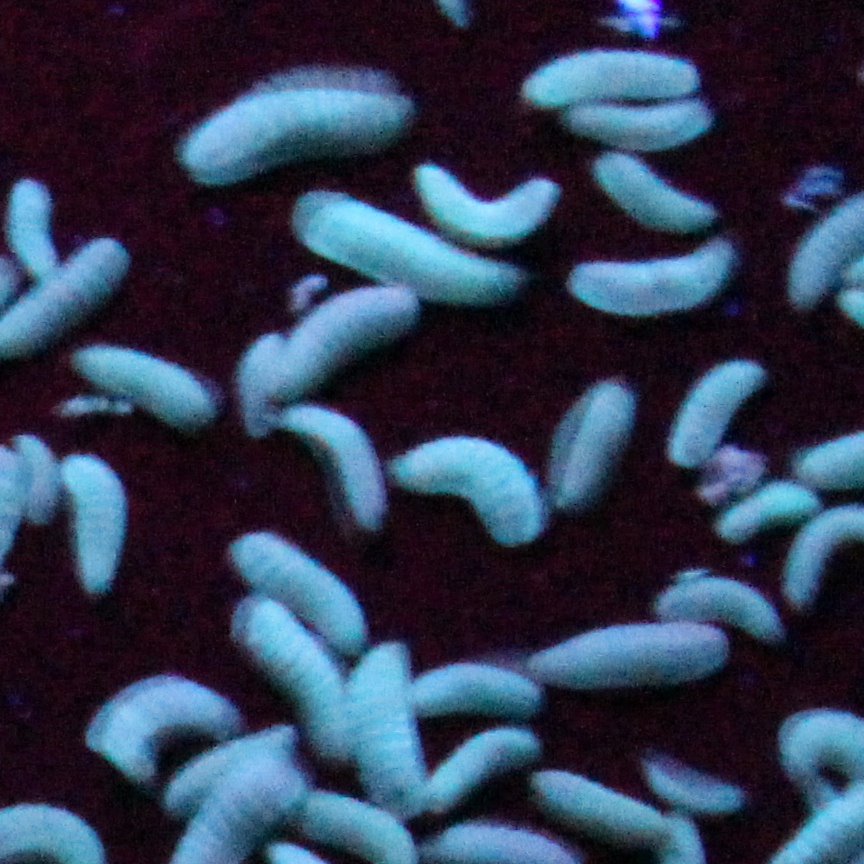larve: (306, 201, 510, 294), (206, 91, 403, 178), (399, 440, 536, 542), (245, 529, 369, 628), (289, 285, 413, 380), (248, 605, 343, 729), (355, 642, 424, 808), (417, 164, 550, 238), (536, 635, 724, 682), (103, 350, 213, 428), (99, 687, 220, 757), (311, 410, 382, 522), (553, 391, 632, 489), (582, 254, 729, 306), (538, 771, 653, 835), (427, 735, 531, 805), (418, 668, 553, 720), (178, 731, 269, 808), (604, 161, 706, 229), (682, 359, 753, 449), (527, 63, 678, 101), (75, 464, 120, 591), (668, 582, 766, 635), (727, 489, 817, 542), (571, 103, 718, 135), (10, 185, 59, 278), (655, 768, 738, 812), (248, 340, 282, 428), (29, 442, 61, 522)
